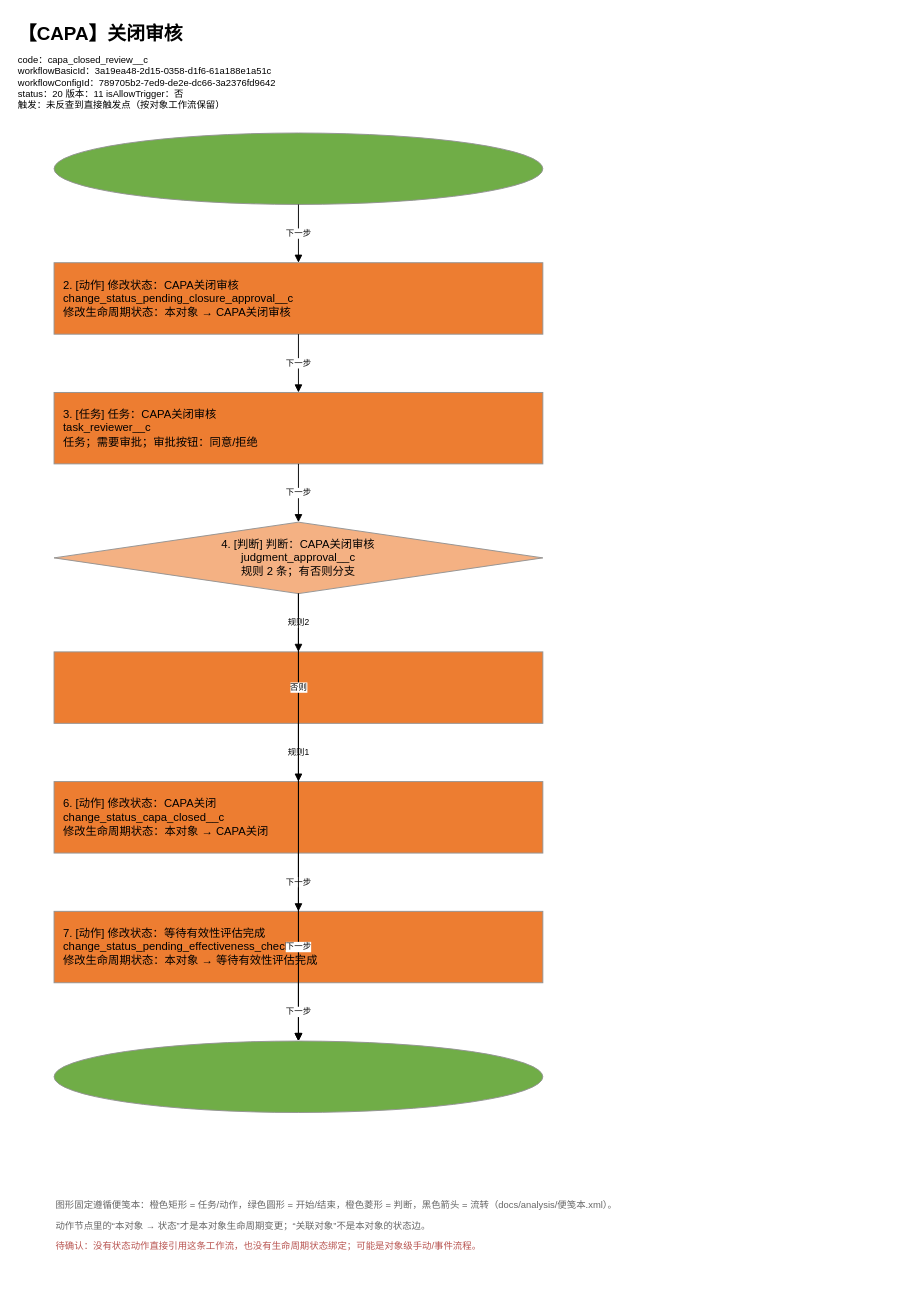
Some shapes in this 916 by 1292 pixel diagram are drawn without their labels. Each missing label, with the centre of its shape:
"1. [开始] 开始 capa_closed_review_Start__c" belongs at point 298,168.
"5. [动作] 修改状态：已完成 change_status_completed__c 修改生命周期状态：本对象 → 已完成" belongs at point 298,687.
"8. [结束] 结束 capa_closed_review_End__c" belongs at point 298,1076.
